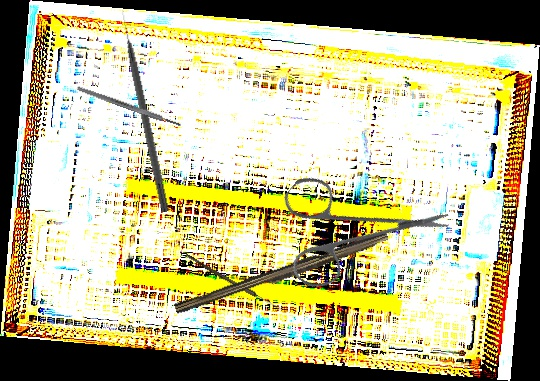Hook Surgical: (117, 10, 172, 213)
Iris Scissors: (249, 126, 454, 331)
Scalpel Handle: (173, 227, 391, 321), (75, 84, 183, 129)
Surgical Spoon: (183, 253, 284, 312)
